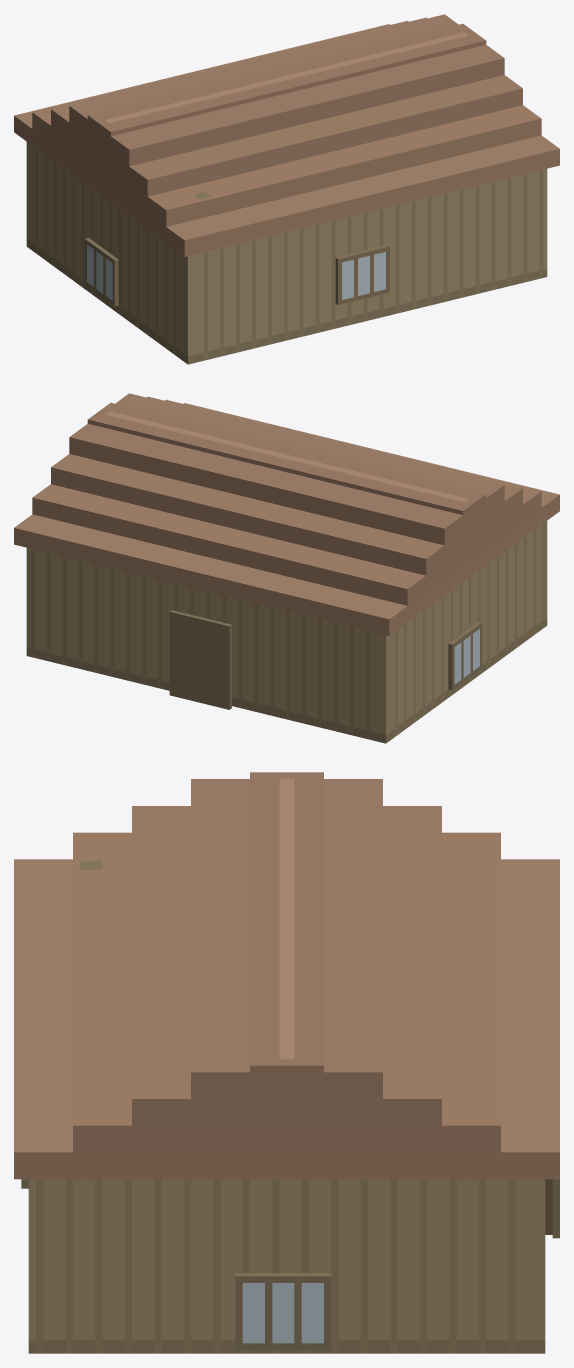
File: taller_arquero_04.glb
3 renders of one model, top to bottom at view 1: azimuth 30°, elevation 25°; view 2: azimuth 150°, elevation 25°; view 3: azimuth 270°, elevation 25°, orthographic. The views are drawn at different scales.
Visible parts, largest first — view 1: taller_arquero_04; view 2: taller_arquero_04; view 3: taller_arquero_04.
Part boxes in pixels (bbox=[...]): taller_arquero_04: bbox=[14, 14, 559, 364]; taller_arquero_04: bbox=[14, 393, 559, 743]; taller_arquero_04: bbox=[14, 772, 559, 1353].
Size of the model in its own units: 9.4 by 4.4 by 7.4.
